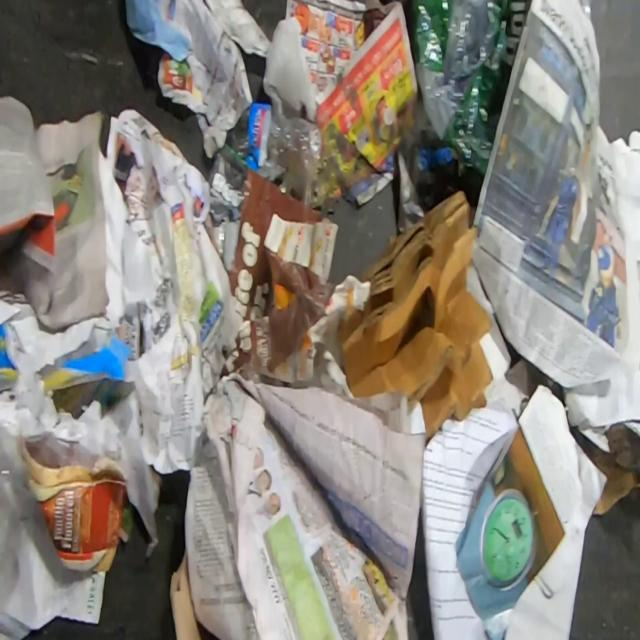cardboard: (335, 188, 494, 442), (17, 436, 126, 575), (587, 422, 640, 517), (168, 544, 204, 640)
rigid_plastic: (224, 100, 323, 192)
soft_plastic: (409, 0, 531, 180), (0, 423, 50, 611), (38, 332, 134, 393), (27, 430, 98, 467), (0, 323, 18, 395), (579, 0, 591, 26)
